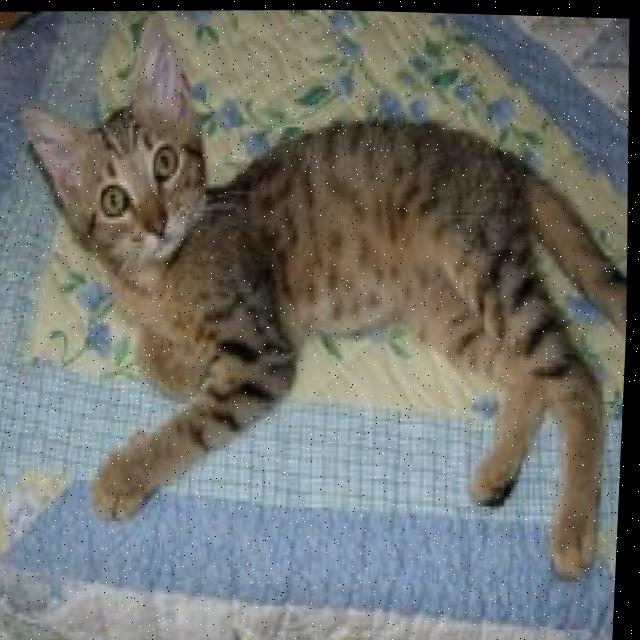Bengal: (0, 0, 640, 601)
